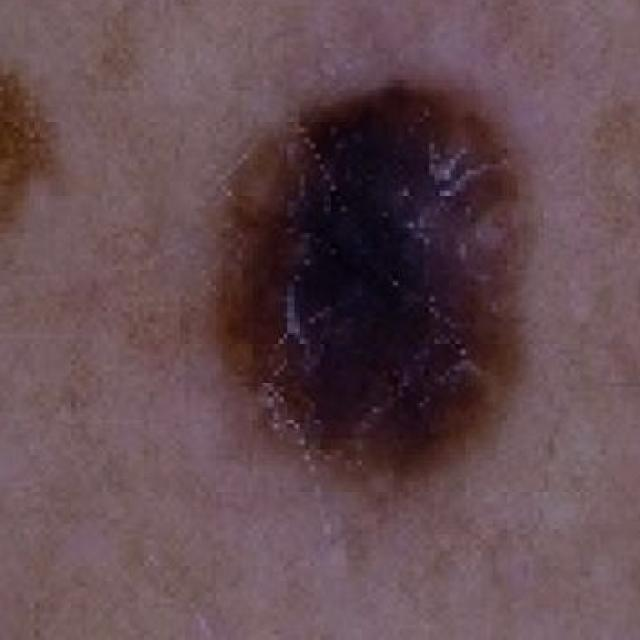BKL: (0, 35, 547, 553)
